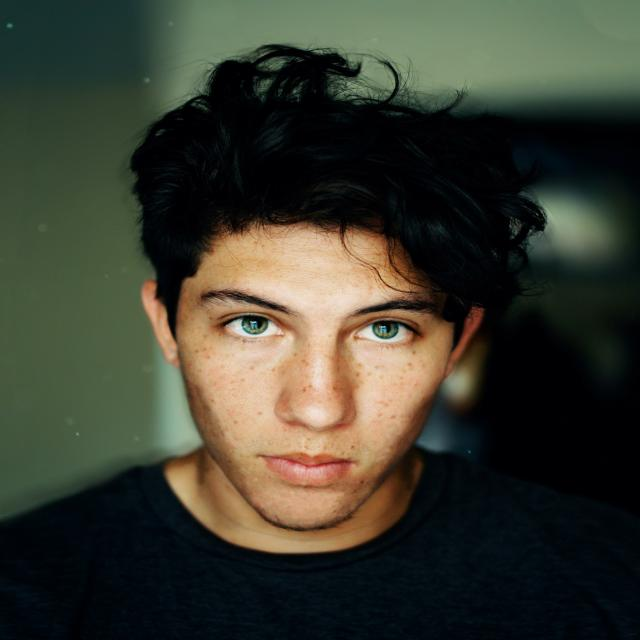adult: (60, 89, 573, 640)
